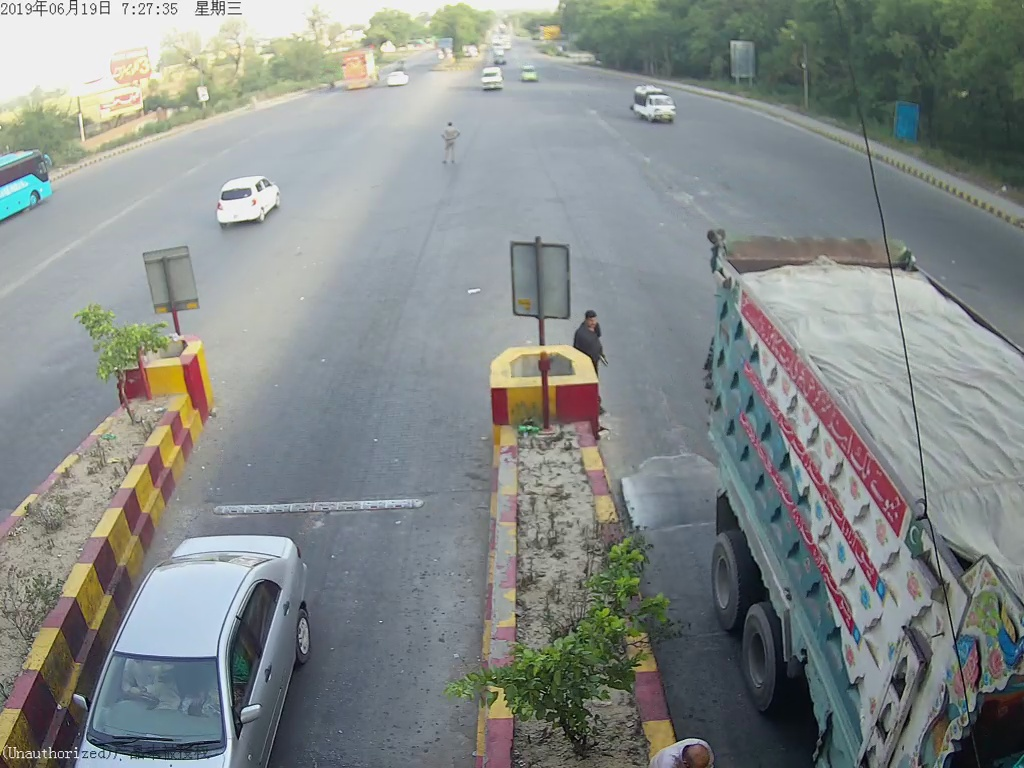Cat-1: (627, 83, 681, 128), (522, 62, 540, 86)
